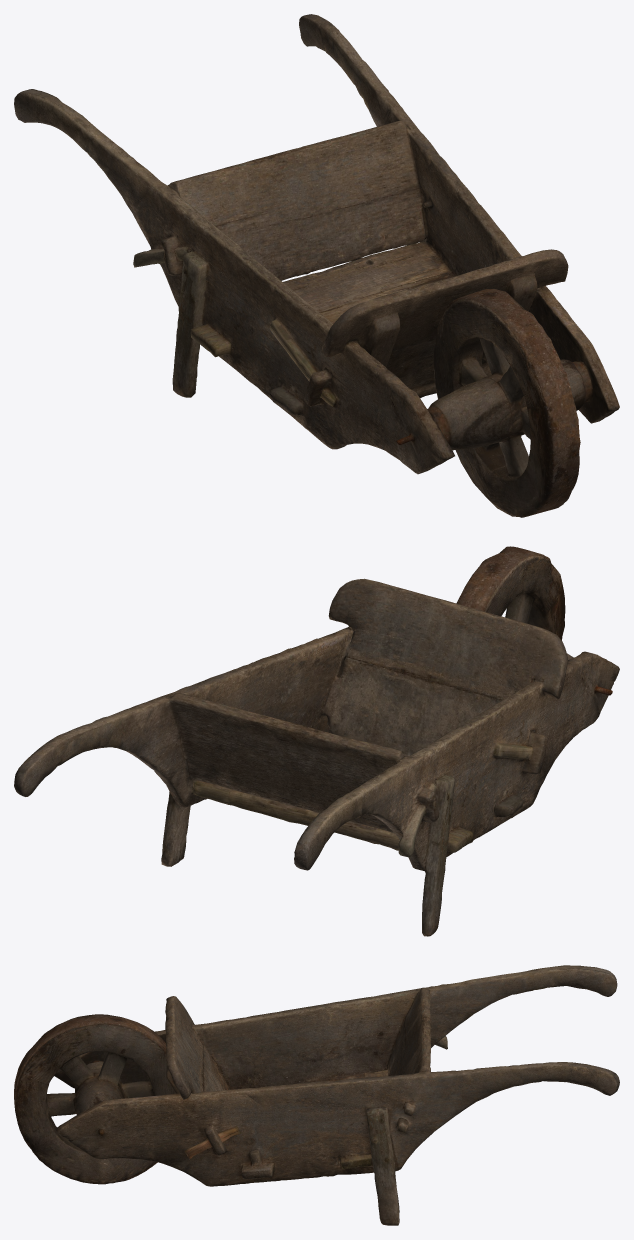
3 renders of one model, top to bottom at view 1: azimuth 30°, elevation 25°; view 2: azimuth 150°, elevation 25°; view 3: azimuth 270°, elevation 25°, orthographic. The views are drawn at different scales.
Visible parts, largest first — view 1: tmruaaeda_LOD0_TIER2_000; view 2: tmruaaeda_LOD0_TIER2_000; view 3: tmruaaeda_LOD0_TIER2_000.
Part boxes in pixels (box(x1,y1,x2,y2)): tmruaaeda_LOD0_TIER2_000: box(14, 14, 619, 517); tmruaaeda_LOD0_TIER2_000: box(14, 546, 619, 936); tmruaaeda_LOD0_TIER2_000: box(14, 965, 619, 1225).
Size of the model in its own units: 0.5998 by 0.4215 by 1.41.
1 material, 1 textured.
